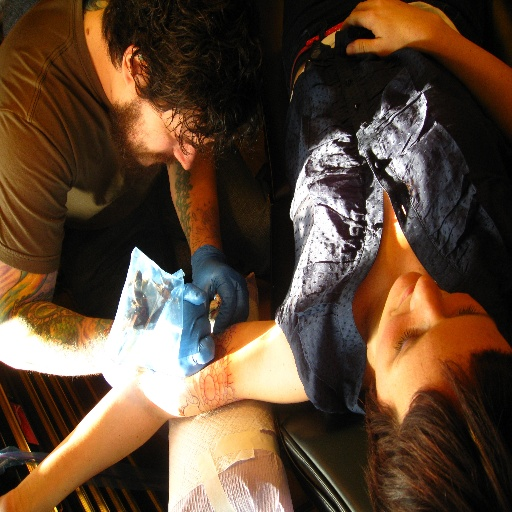hand: (144, 281, 215, 380), (339, 0, 440, 55), (190, 251, 252, 332), (0, 486, 24, 511)
